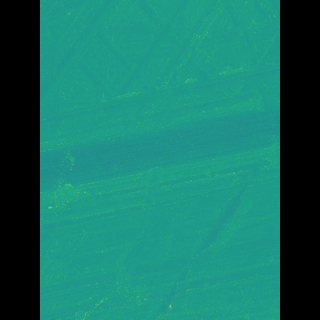Loch: (68, 0, 251, 133), (122, 155, 250, 320)
